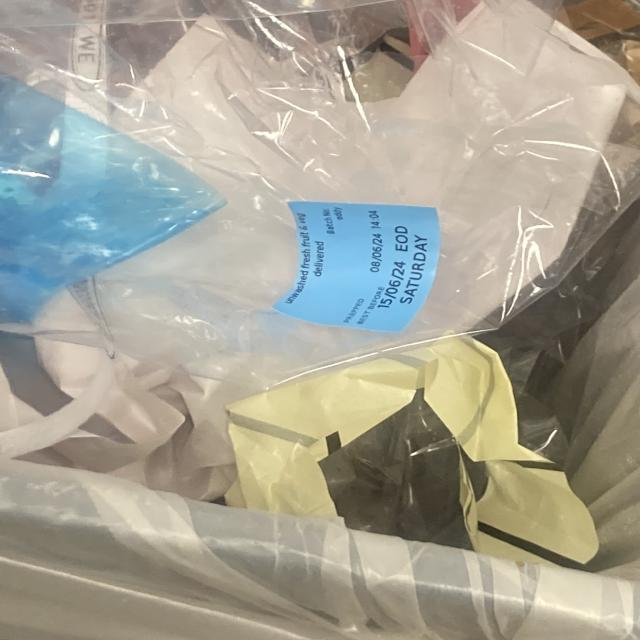product-labels: (282, 200, 441, 335)
